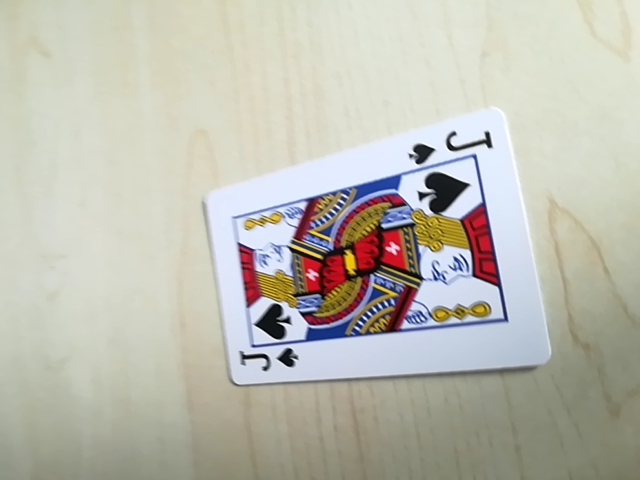ht j: (403, 127, 502, 169), (233, 340, 304, 384)
